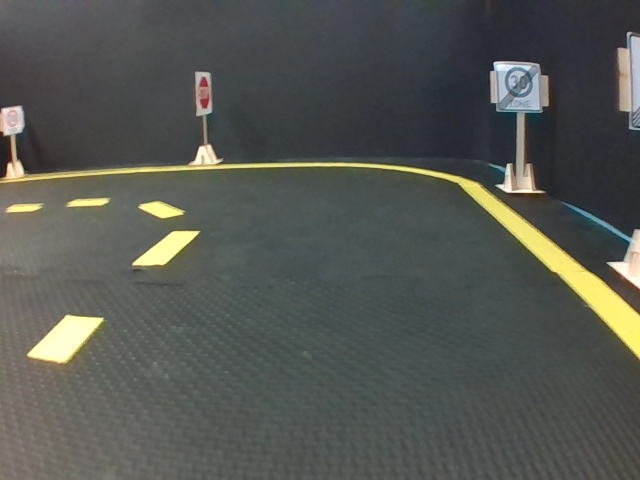30: (2, 108, 21, 133)
no30: (494, 62, 539, 109), (629, 35, 640, 128)
stop: (196, 70, 211, 115)
